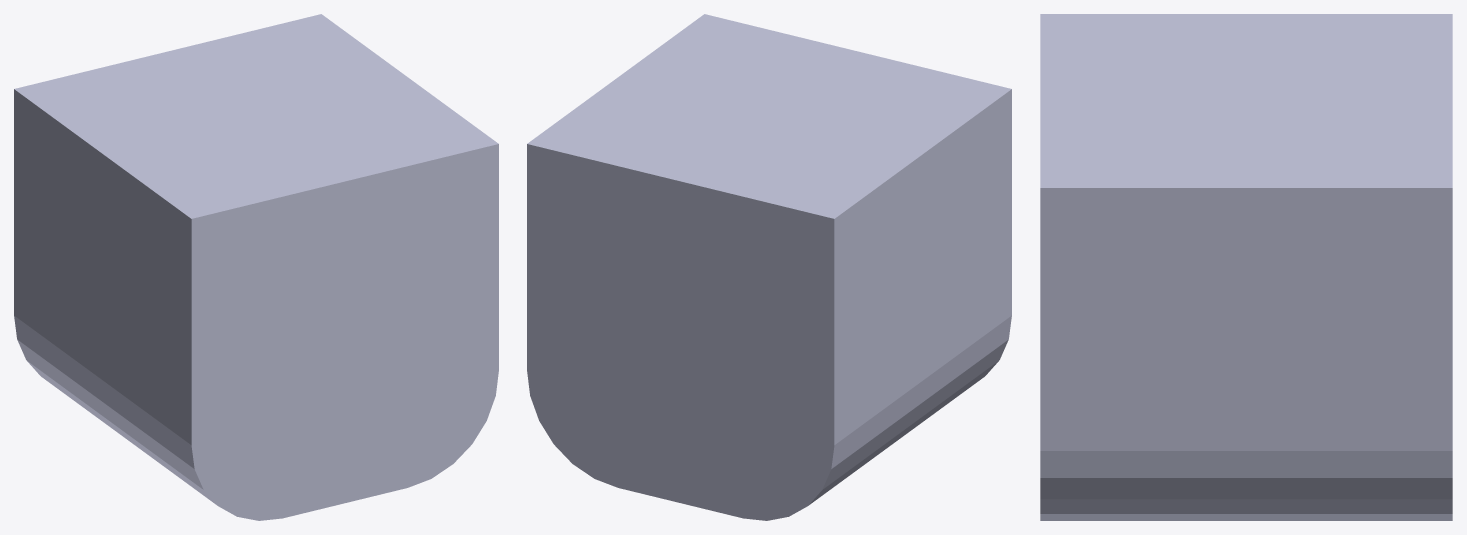
Rendered from CrumblingPlatform0.fbx.
3 views of the same model, side by side, from view 1: azimuth 30°, elevation 25°; view 2: azimuth 150°, elevation 25°; view 3: azimuth 270°, elevation 25° (orthographic). The views are drawn at different scales.
Visible parts, largest first — view 1: CrumblingPlatform0; view 2: CrumblingPlatform0; view 3: CrumblingPlatform0.
Part boxes in pixels (x1,y1,x2,y2): CrumblingPlatform0: (14, 14, 498, 520); CrumblingPlatform0: (527, 14, 1011, 520); CrumblingPlatform0: (1040, 14, 1452, 520).
Bounding box in the file's own units: 200 × 200 × 200.
